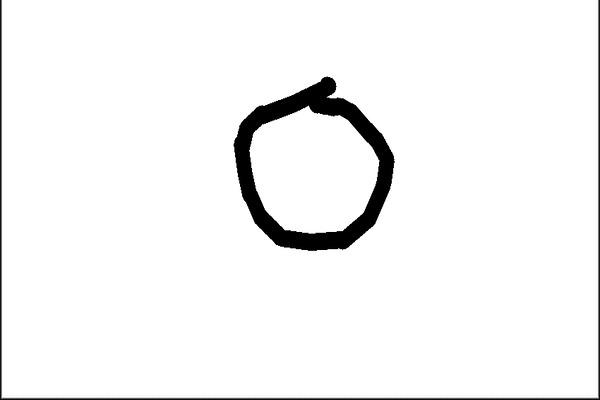O: (218, 69, 397, 252)
